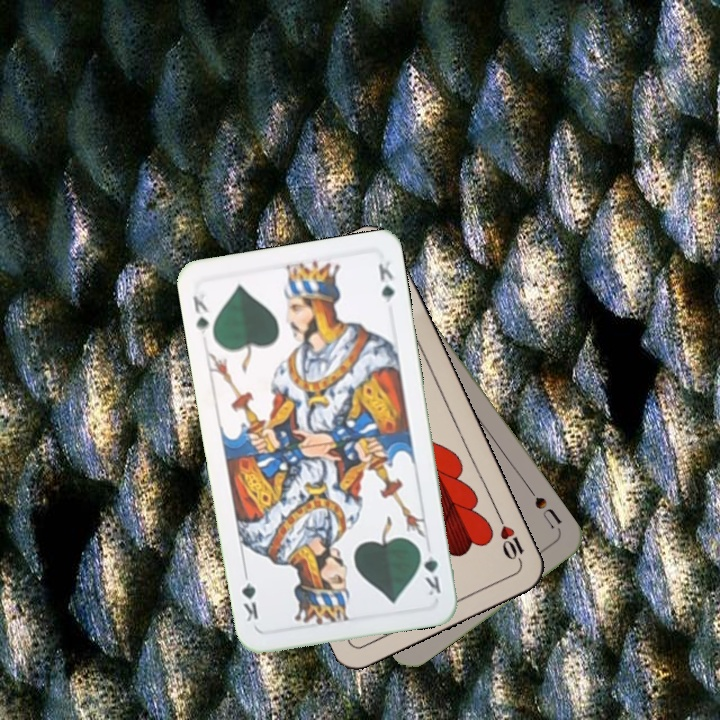GK: (415, 542, 444, 598), (189, 289, 211, 337)
H10: (493, 511, 527, 566)
SU: (530, 492, 565, 531)
